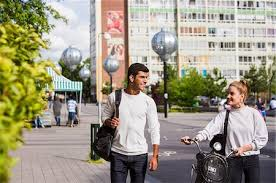no-mask: (124, 61, 151, 93), (226, 77, 250, 110)
